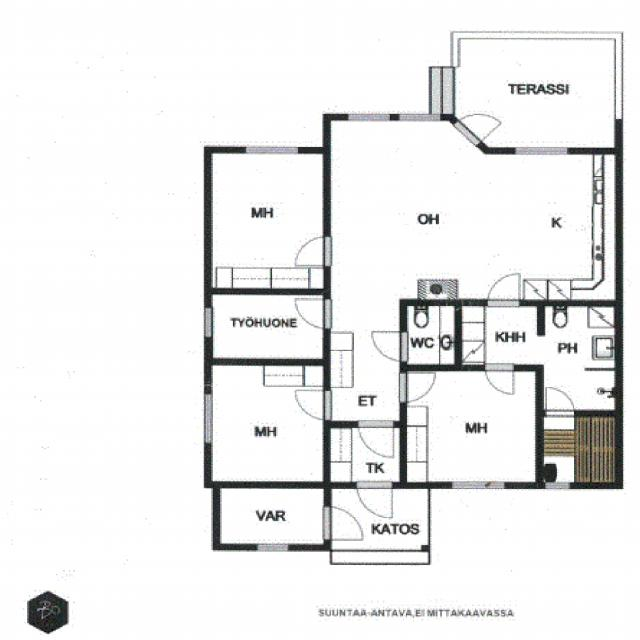door: (453, 100, 502, 146), (357, 481, 392, 522), (324, 508, 366, 540), (358, 422, 393, 460), (290, 389, 331, 420), (290, 298, 331, 328), (368, 332, 408, 362), (292, 236, 331, 266), (401, 373, 440, 403), (488, 270, 520, 306), (546, 384, 574, 416), (486, 364, 512, 396)
